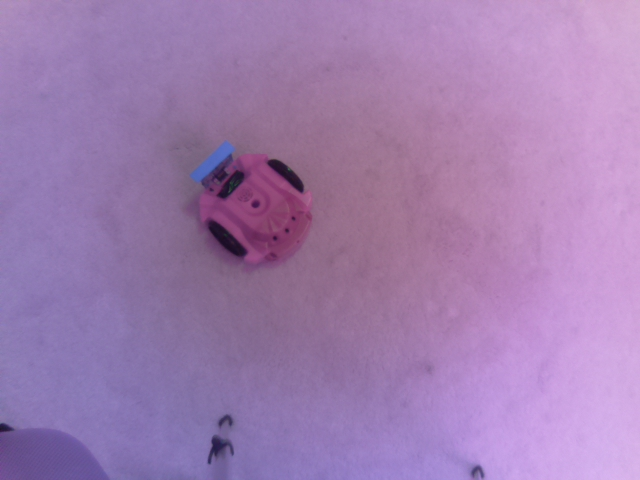board: (189, 139, 238, 181)
chassis: (189, 140, 319, 269)
